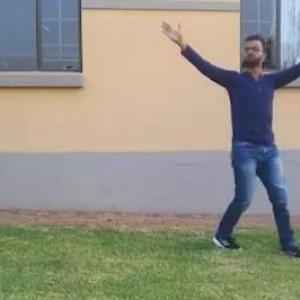takeoff: (165, 25, 299, 256)
